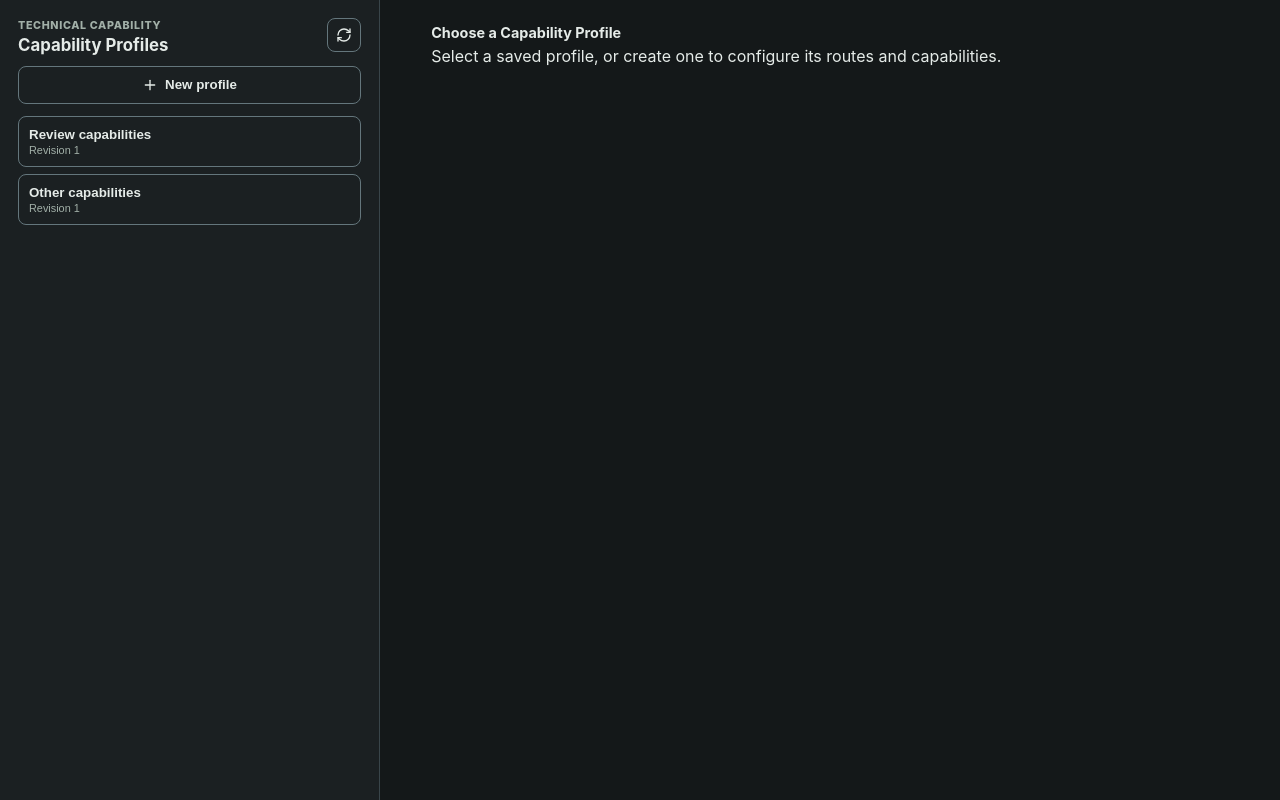
retains a new unsaved profile across remount and failed save
Later steps or results of the test are not shown.
Click the button "New profile". click: (190, 85)
box: [18, 66, 361, 104]
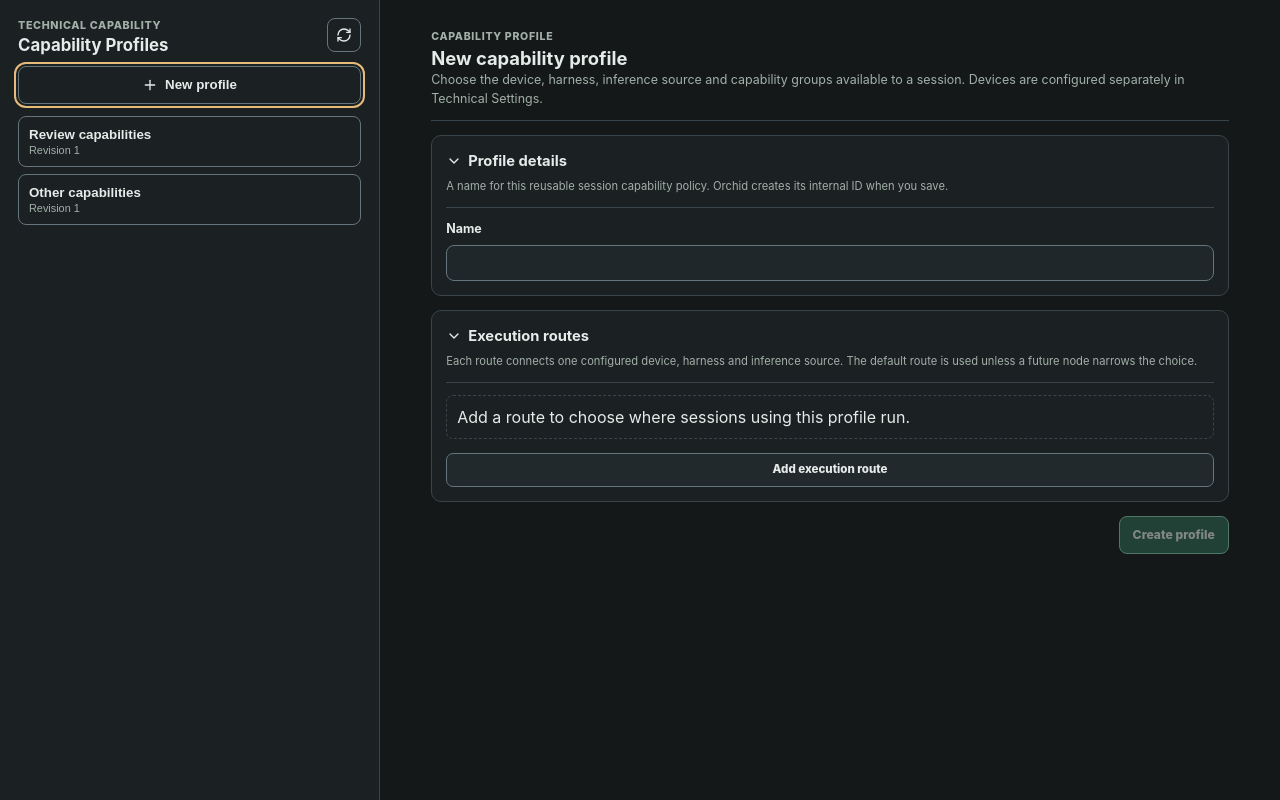
Type "Unfinished" into the field named "Capability profile name". click: (830, 263)
box: [446, 245, 1214, 281]
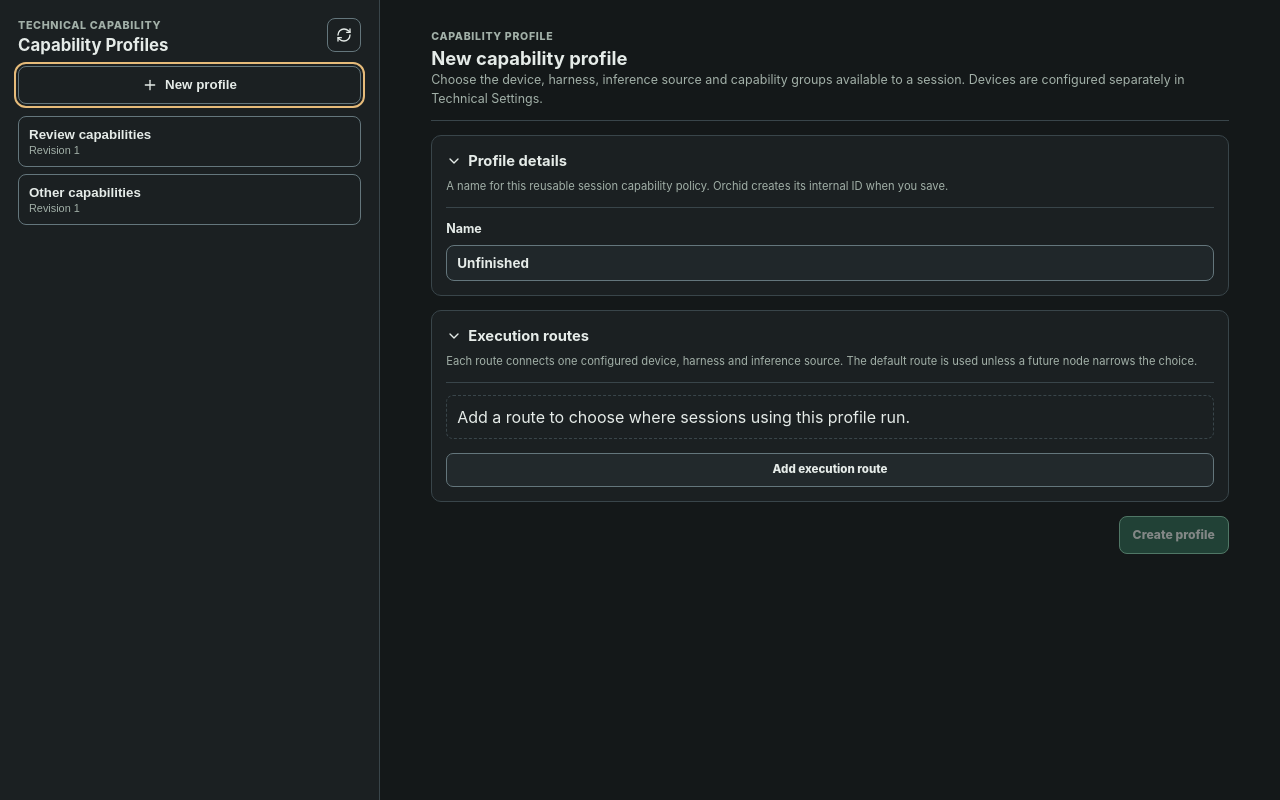
Click the button "Add execution route". click: (830, 470)
box: [446, 453, 1214, 487]
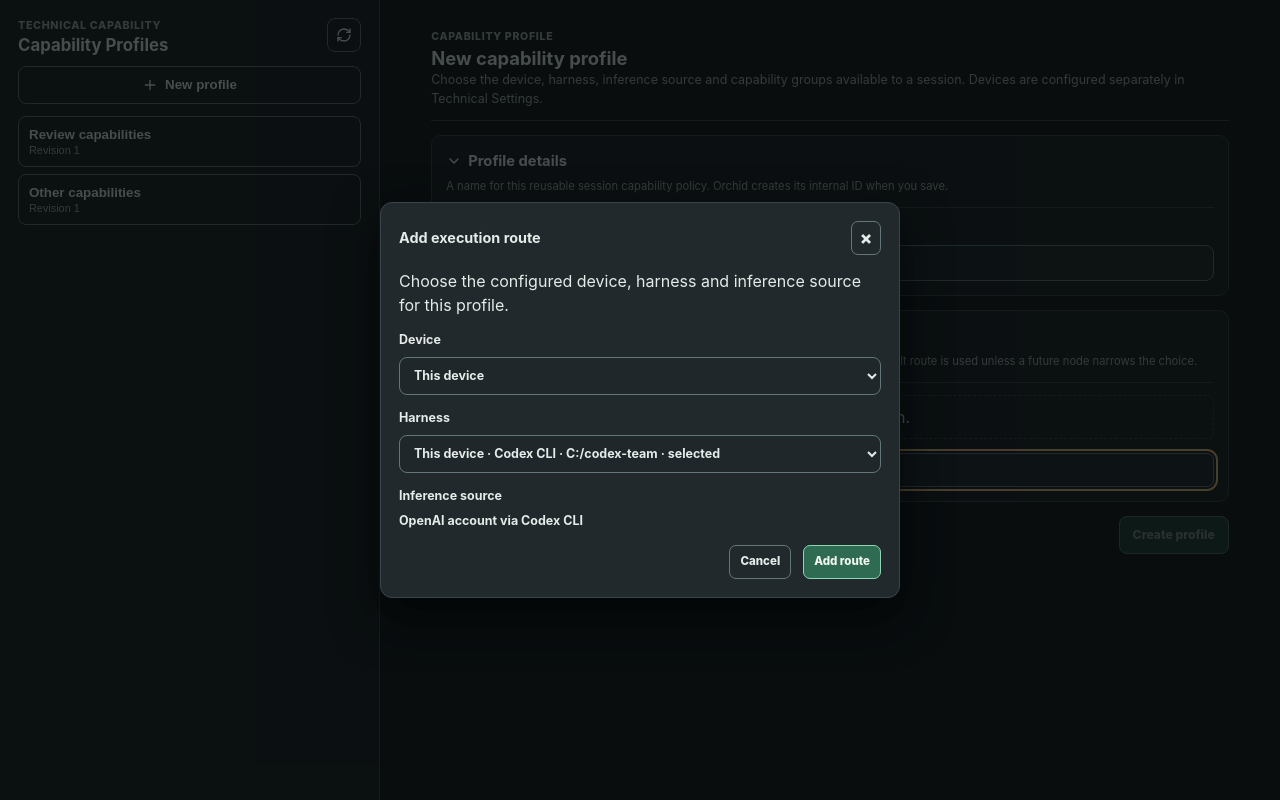
Click the button "Add route". click: (842, 562)
box: [803, 545, 881, 579]
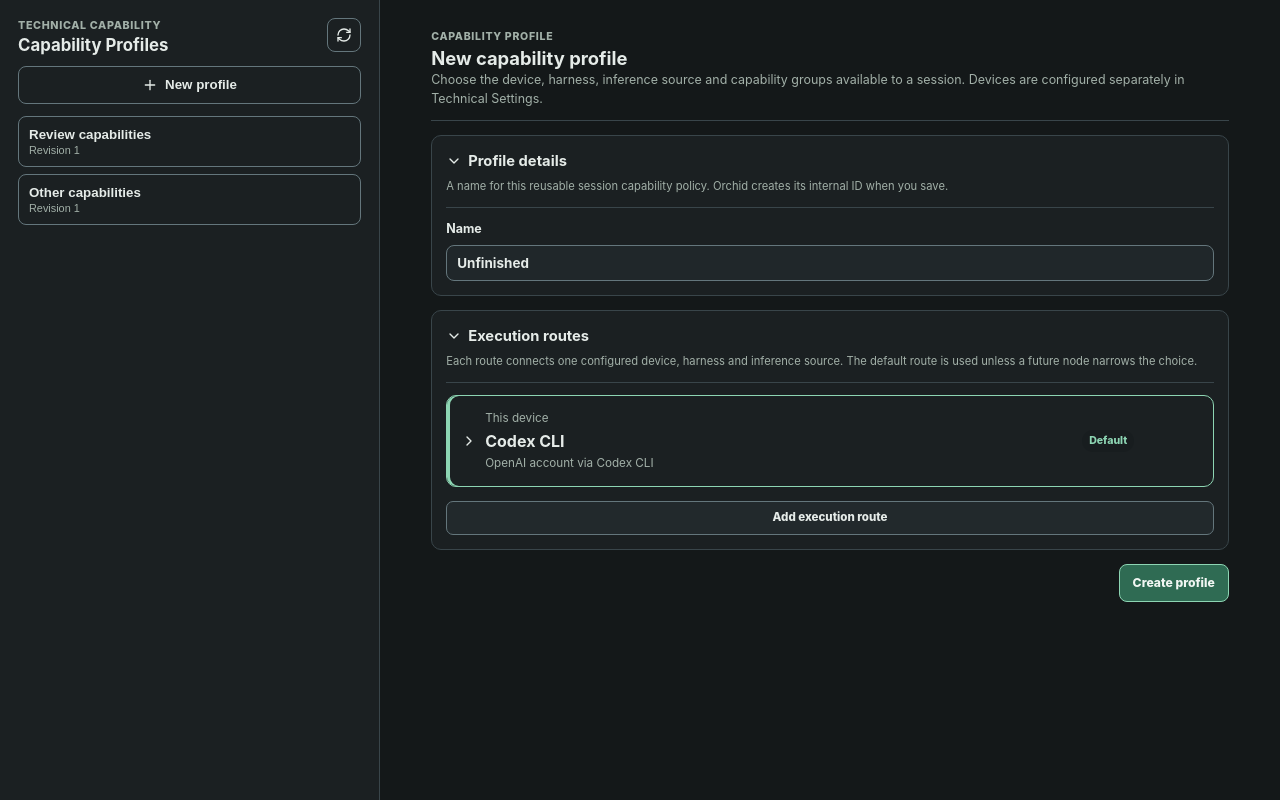
Click the button "Create profile". click: (1174, 583)
box: [1119, 564, 1229, 602]
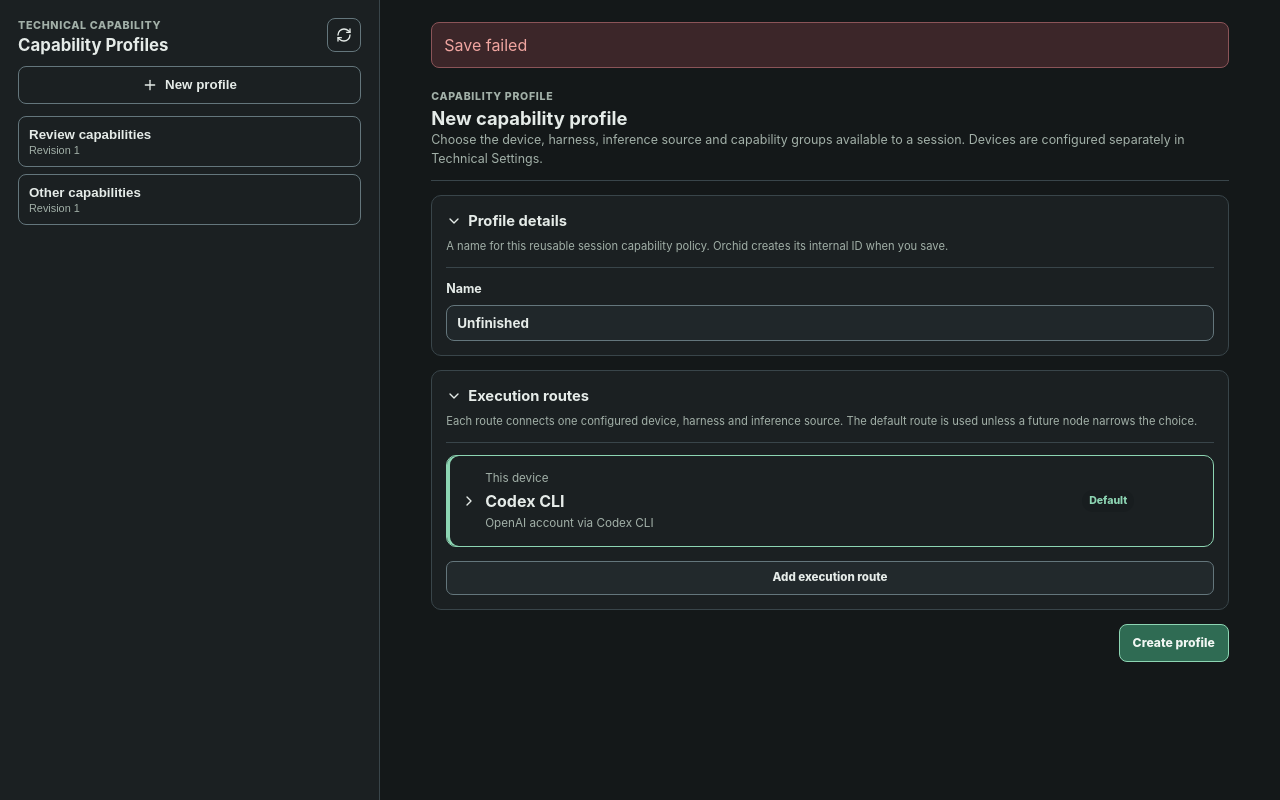
Expected: the message reads "Save failed", [444, 35, 527, 55]
